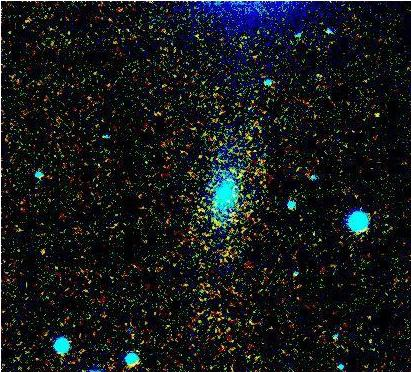star: (352, 98, 382, 128)
